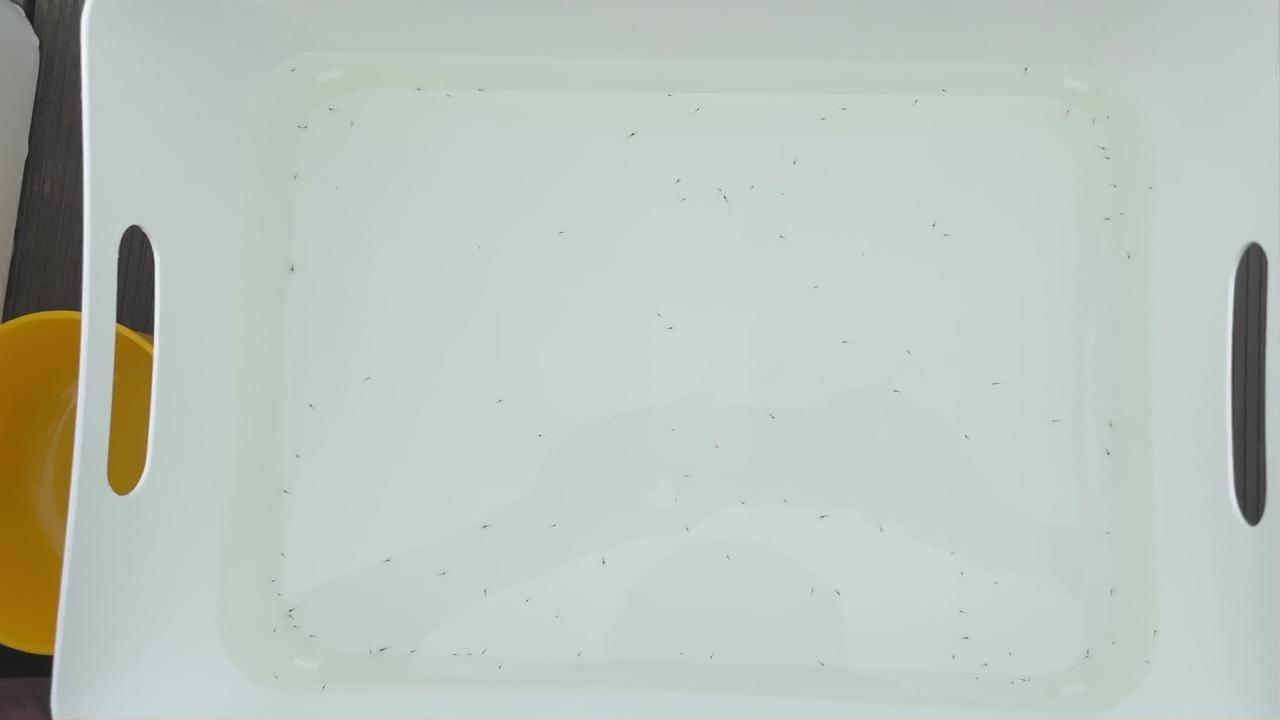shrimp: (288, 266, 300, 274), (332, 186, 344, 194), (289, 174, 301, 182), (294, 124, 306, 132), (299, 123, 311, 131), (288, 66, 300, 74), (325, 106, 337, 114), (349, 121, 361, 129), (412, 87, 424, 95), (443, 93, 455, 101), (476, 89, 488, 97), (557, 229, 569, 237), (474, 246, 486, 254), (628, 131, 640, 139), (666, 93, 678, 101), (693, 105, 705, 113), (674, 177, 686, 185), (679, 198, 691, 206), (716, 187, 728, 195), (720, 195, 732, 203), (747, 182, 759, 190), (777, 192, 789, 200), (789, 160, 801, 168), (819, 116, 831, 124), (836, 106, 848, 114), (909, 98, 921, 106), (940, 88, 952, 96), (1020, 67, 1032, 75), (1064, 110, 1076, 118), (1089, 120, 1101, 128), (1103, 113, 1115, 121), (1099, 144, 1111, 152), (1103, 154, 1115, 162), (1109, 183, 1121, 191), (1145, 186, 1157, 194), (1117, 211, 1129, 219), (1101, 217, 1113, 225), (1125, 252, 1137, 260), (944, 233, 956, 241), (930, 222, 942, 230), (775, 233, 787, 241), (809, 284, 821, 292), (839, 339, 851, 347), (666, 325, 678, 333), (654, 311, 666, 319), (891, 390, 903, 398), (904, 349, 916, 357), (961, 431, 973, 439), (990, 379, 1002, 387), (1051, 418, 1063, 426), (1107, 451, 1119, 459), (1106, 420, 1118, 428), (1104, 529, 1116, 537), (1107, 590, 1119, 598), (1148, 629, 1160, 637), (1143, 660, 1155, 668), (1108, 644, 1120, 652), (1083, 650, 1095, 658), (1024, 678, 1036, 686), (1019, 678, 1031, 686), (1006, 680, 1018, 688), (1006, 651, 1018, 659), (992, 578, 1004, 586), (948, 549, 960, 557), (958, 571, 970, 579), (958, 608, 970, 616), (960, 634, 972, 642), (949, 655, 961, 663), (973, 677, 985, 685), (980, 662, 992, 670), (816, 661, 828, 669), (833, 590, 845, 598), (876, 527, 888, 535), (817, 514, 829, 522), (807, 589, 819, 597), (779, 498, 791, 506), (767, 414, 779, 422), (710, 442, 722, 450), (739, 501, 751, 509), (724, 554, 736, 562), (683, 527, 695, 535), (669, 496, 681, 504), (681, 473, 693, 481), (668, 429, 680, 437), (598, 557, 610, 565), (706, 655, 718, 663), (678, 650, 690, 658), (575, 652, 587, 660), (497, 664, 509, 672), (478, 647, 490, 655), (465, 653, 477, 661), (449, 652, 461, 660), (522, 599, 534, 607), (548, 522, 560, 530), (535, 435, 547, 443), (494, 400, 506, 408), (611, 413, 623, 421), (481, 522, 493, 530), (480, 588, 492, 596), (552, 615, 564, 623), (437, 574, 449, 582), (381, 557, 393, 565), (409, 648, 421, 656), (375, 646, 387, 654), (365, 649, 377, 657), (320, 686, 332, 694), (271, 675, 283, 683), (269, 628, 281, 636), (290, 623, 302, 631), (308, 632, 320, 640), (284, 614, 296, 622), (285, 607, 297, 615), (272, 590, 284, 598), (268, 578, 280, 586), (278, 552, 290, 560), (281, 489, 293, 497), (293, 454, 305, 462), (307, 405, 319, 413), (364, 375, 376, 383)
